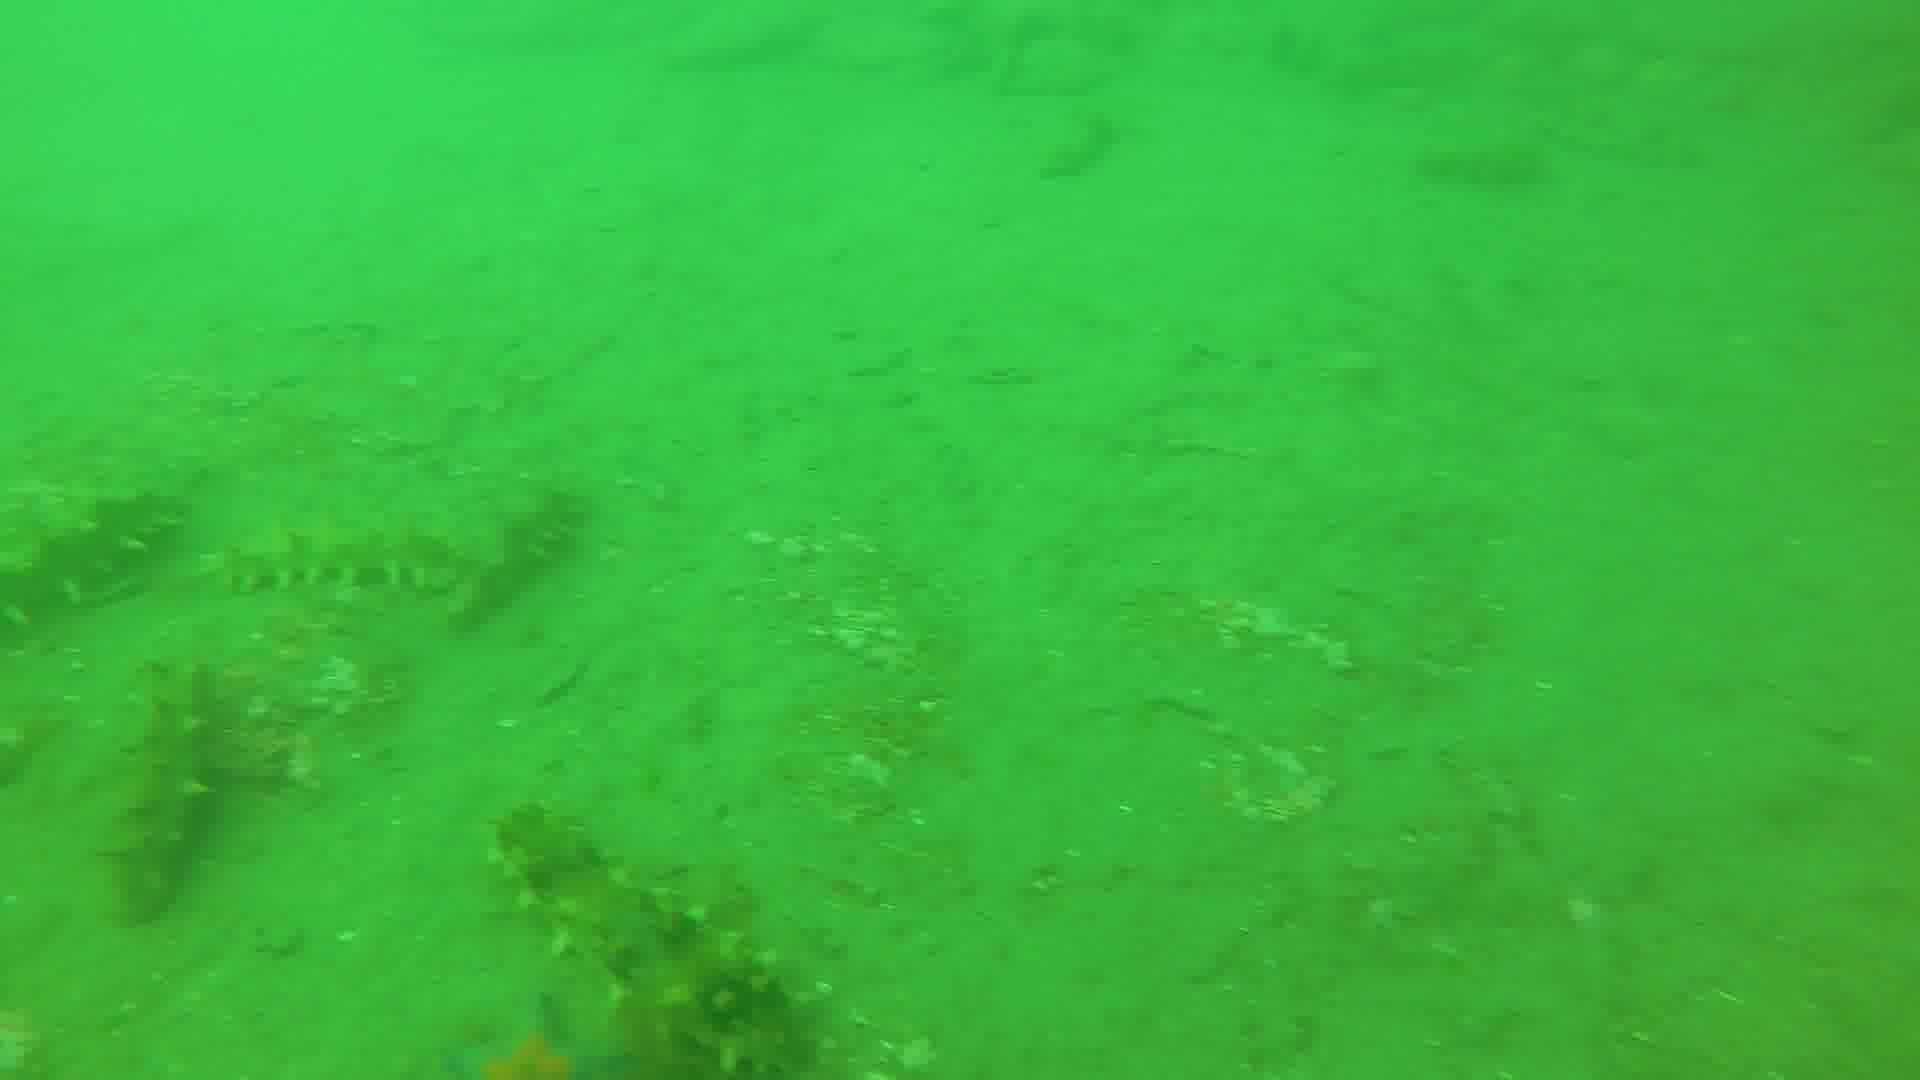holothurian: (487, 796, 822, 1072), (98, 655, 233, 928), (3, 479, 185, 636), (203, 516, 479, 603), (442, 480, 593, 636)
starfish: (444, 986, 640, 1073)
